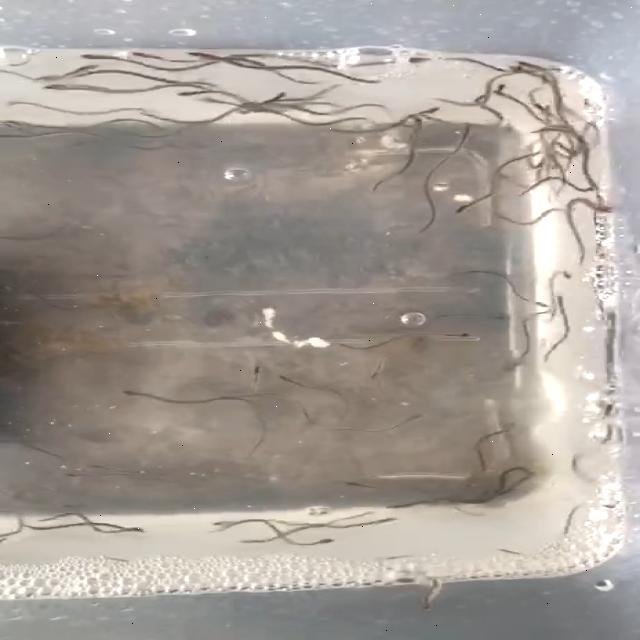inactive_glass_eel: (414, 330, 496, 348), (100, 524, 152, 542), (443, 119, 480, 142), (278, 407, 320, 427), (38, 80, 98, 94), (388, 404, 440, 420), (253, 87, 298, 105), (536, 291, 573, 311), (463, 460, 503, 478), (119, 383, 167, 397), (582, 200, 628, 214), (62, 62, 102, 78), (304, 532, 339, 550), (442, 203, 476, 221), (381, 498, 419, 514), (408, 101, 443, 118), (230, 364, 272, 378), (195, 520, 253, 530), (541, 266, 577, 282), (336, 477, 372, 492), (520, 298, 552, 314), (354, 368, 388, 382), (187, 53, 226, 65), (280, 366, 302, 386), (73, 55, 117, 65), (404, 116, 431, 132), (122, 52, 160, 63), (524, 100, 552, 114), (475, 320, 513, 330), (483, 80, 507, 92)
